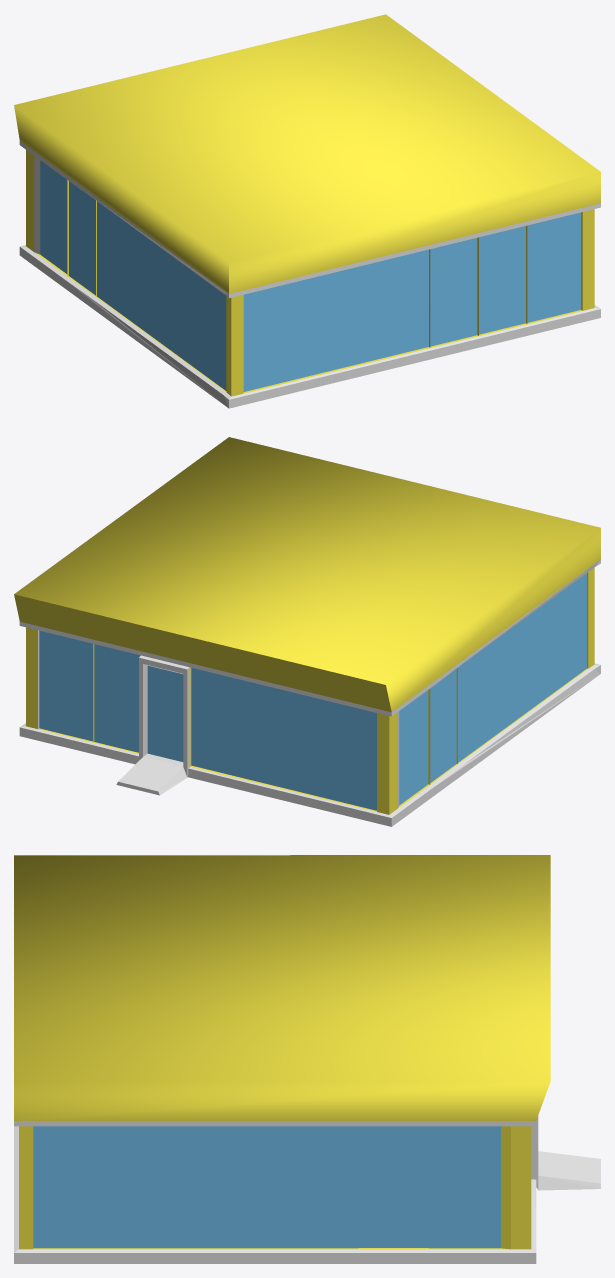
File: Shop8x8x3Yellow.fbx
3 renders of one model, top to bottom at view 1: azimuth 30°, elevation 25°; view 2: azimuth 150°, elevation 25°; view 3: azimuth 270°, elevation 25°, orthographic. The views are drawn at different scales.
Parts seen in each view (by area): view 1: Shop.001; view 2: Shop.001; view 3: Shop.001.
Boxes of the visible parts, x1,y1,x2,y2 form: Shop.001: [14, 14, 600, 408]; Shop.001: [14, 437, 600, 826]; Shop.001: [14, 855, 600, 1263].
Size of the model in its own units: 7.96 by 2.99 by 8.72.
1 material, 1 textured.
